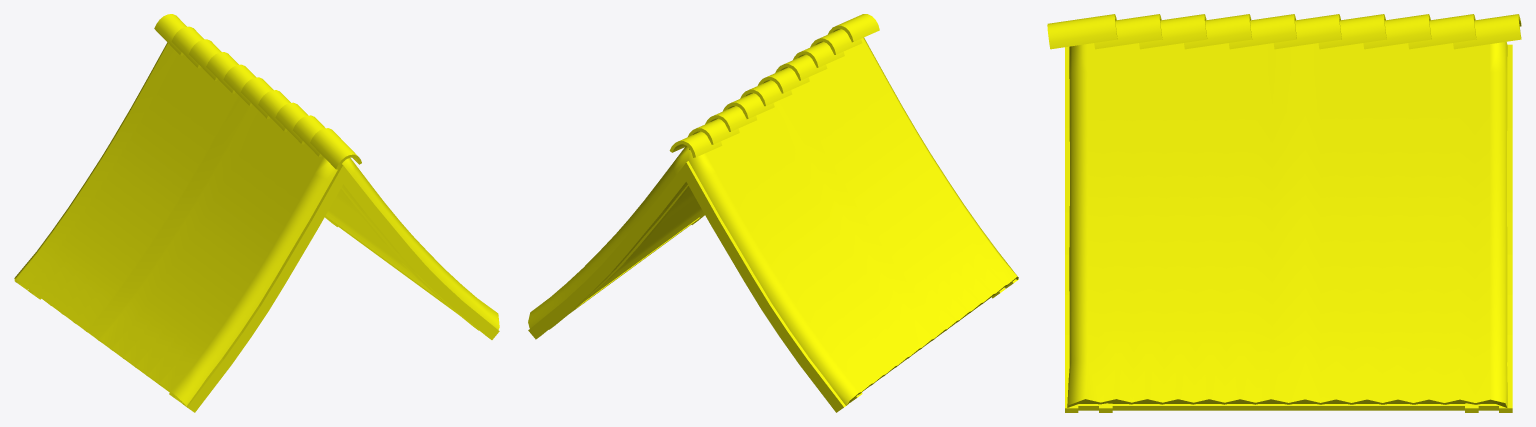
File: Roof_RoundTiles_6x6.glb
3 renders of one model, left to right at view 1: azimuth 30°, elevation 25°; view 2: azimuth 150°, elevation 25°; view 3: azimuth 270°, elevation 25°, orthographic. The views are drawn at different scales.
Parts seen in each view (by area): view 1: Roof_RoundTiles_6x6; view 2: Roof_RoundTiles_6x6; view 3: Roof_RoundTiles_6x6.
Boxes of the visible parts, x1,y1,x2,y2 form: Roof_RoundTiles_6x6: (14,14,499,412); Roof_RoundTiles_6x6: (528,14,1018,412); Roof_RoundTiles_6x6: (1047,14,1521,412).
Size of the model in its own units: 8.25 by 5.67 by 8.03.
Materials: 2 (2 with a texture image).
